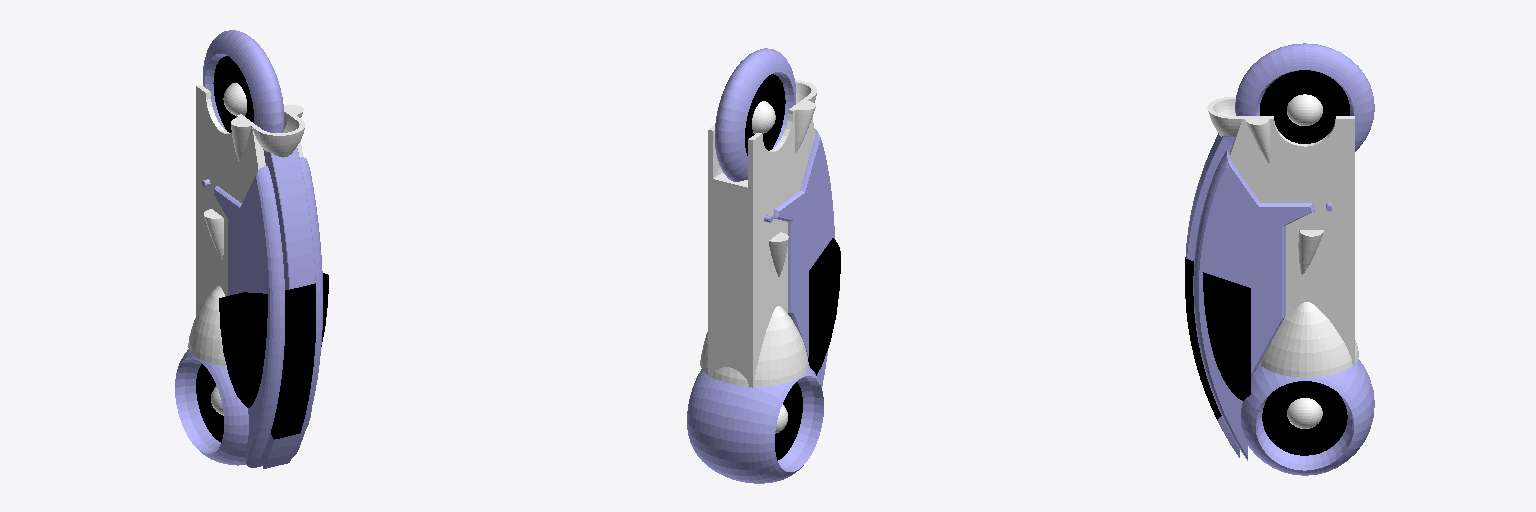
The model's file is lightcycle-ultra-high.obj.
3 renders of one model, left to right at view 1: azimuth 30°, elevation 25°; view 2: azimuth 150°, elevation 25°; view 3: azimuth 270°, elevation 25°, orthographic.
Visible parts, largest first — view 1: polySurface69; view 2: polySurface69; view 3: polySurface69.
Boxes of the visible parts, x1=… form: polySurface69: x1=175, y1=30, x2=328, y2=468; polySurface69: x1=687, y1=48, x2=840, y2=483; polySurface69: x1=1185, y1=43, x2=1374, y2=475.
Bounding box in the file's own units: 2.51 × 9.87 × 4.01.